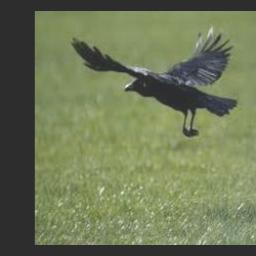Crow: (72, 21, 239, 137)
